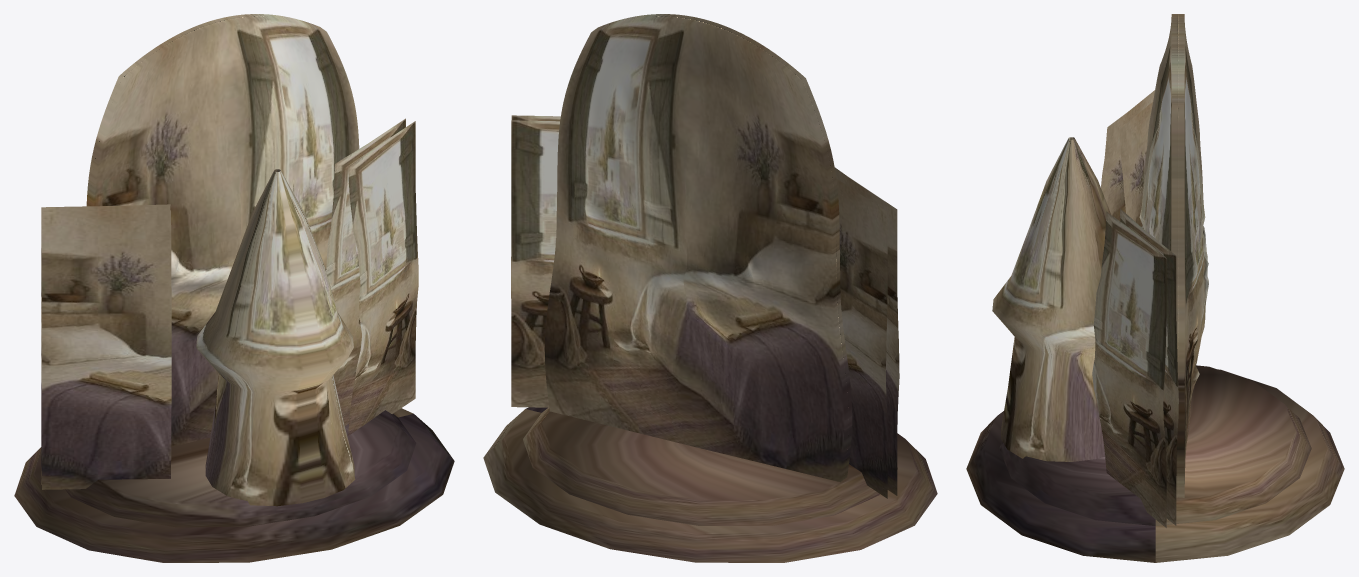
File: held-together-32.glb
3 renders of one model, left to right at view 1: azimuth 30°, elevation 25°; view 2: azimuth 150°, elevation 25°; view 3: azimuth 270°, elevation 25°, orthographic. The views are drawn at different scales.
Visible parts, largest first — view 1: PaintingSculptureMonument; view 2: PaintingSculptureMonument; view 3: PaintingSculptureMonument.
Part boxes in pixels (left/top/right/bottom): PaintingSculptureMonument: left=14, top=14, right=454, bottom=562; PaintingSculptureMonument: left=483, top=14, right=937, bottom=562; PaintingSculptureMonument: left=966, top=14, right=1344, bottom=562.
Bounding box in the file's own units: 2.76 × 2.99 × 2.35.
1 material, 1 textured.
